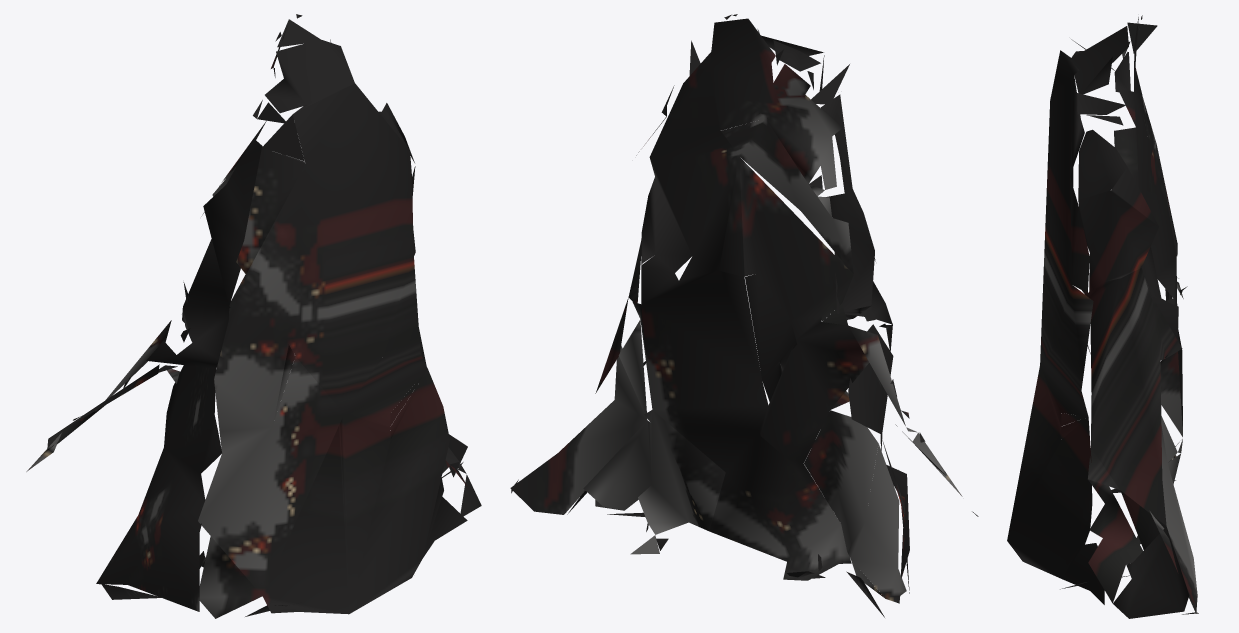
3 views of the same model, side by side, from view 1: azimuth 30°, elevation 25°; view 2: azimuth 150°, elevation 25°; view 3: azimuth 270°, elevation 25° (orthographic). The views are drawn at different scales.
Parts seen in each view (by area): view 1: body.002; view 2: body.002; view 3: body.002.
Part boxes in pixels (x1,y1,x2,y2): body.002: (26, 14, 481, 618); body.002: (510, 14, 978, 617); body.002: (1007, 15, 1198, 618).
Size of the model in its own units: 1.77 by 2.03 by 0.7339.
1 material, 1 textured.
